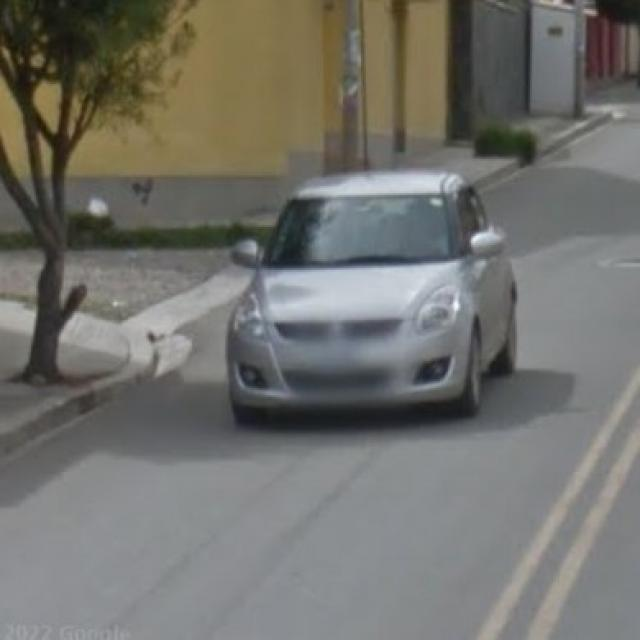cars: (224, 169, 521, 419)
